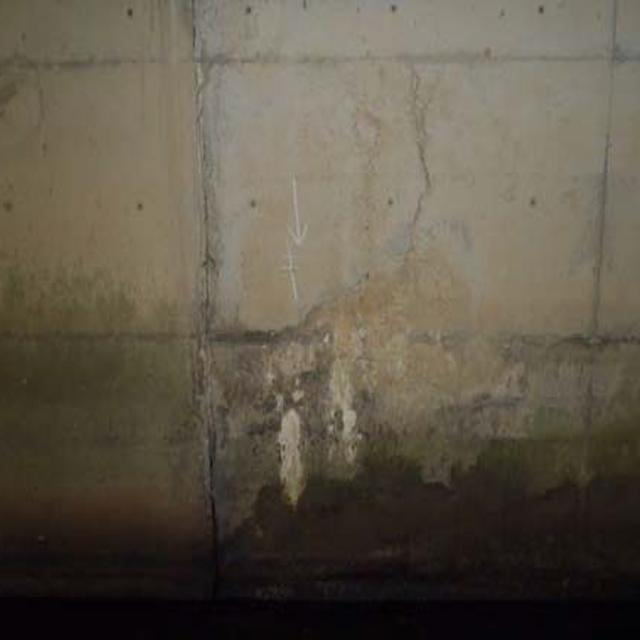freelime: (269, 368, 360, 502)
